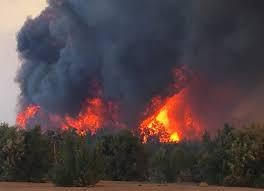fire: (16, 93, 107, 134), (136, 88, 202, 144), (15, 102, 40, 127)
